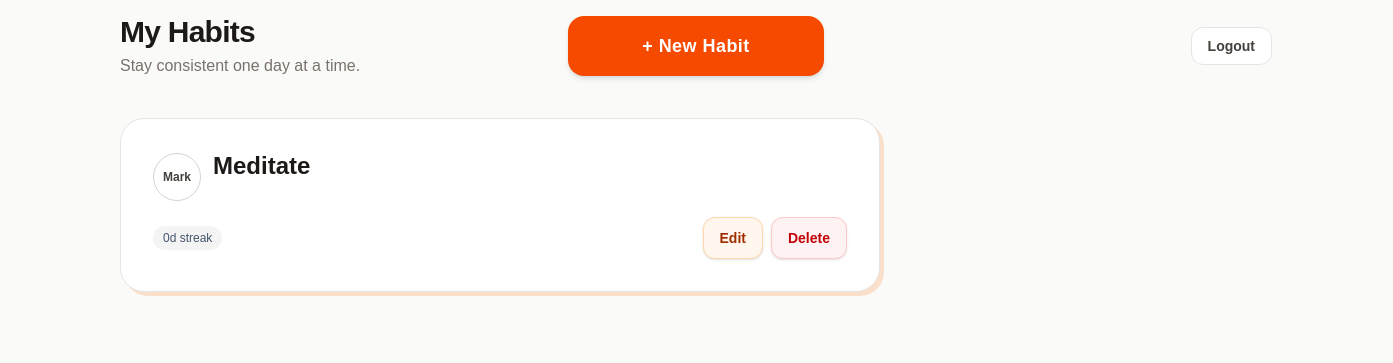
it: habit form › deletes a habit only after explicit confirmation
Expected: the element with test id "habit-card-meditate" is shown, [120,118,880,292]
Click the button with test id "habit-delete-meditate".
click(809, 238)  # box [771,217,847,259]
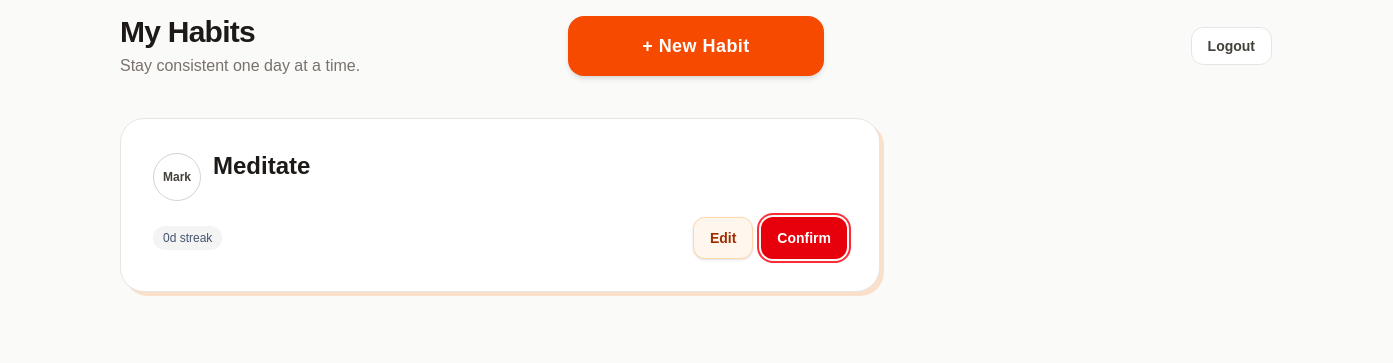
Expected: the element with test id "habit-card-meditate" is shown, [120,118,880,292]
Expected: the button with test id "confirm-delete-button" is shown
Click the button with test id "confirm-delete-button".
click(804, 238)  # box [761,217,847,259]
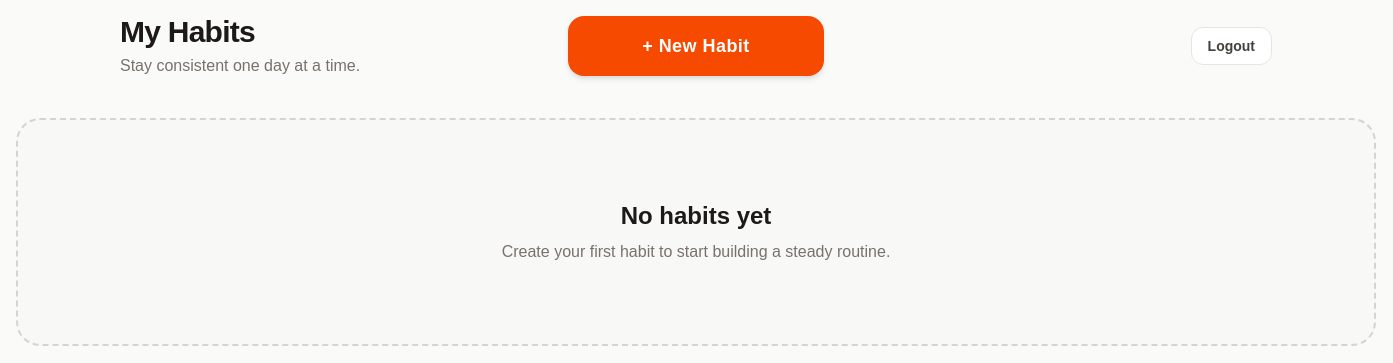
Expected: the element with test id "habit-card-meditate" is gone
